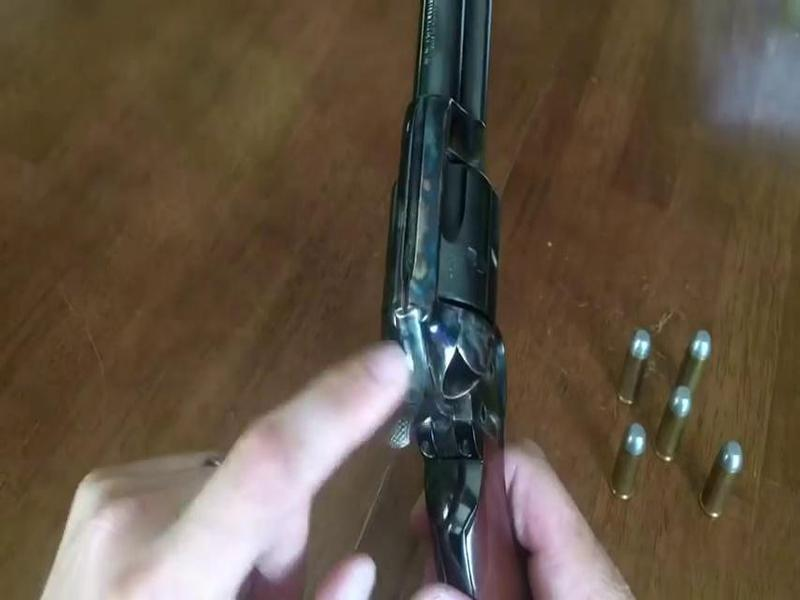Revolver: (367, 17, 547, 600)
